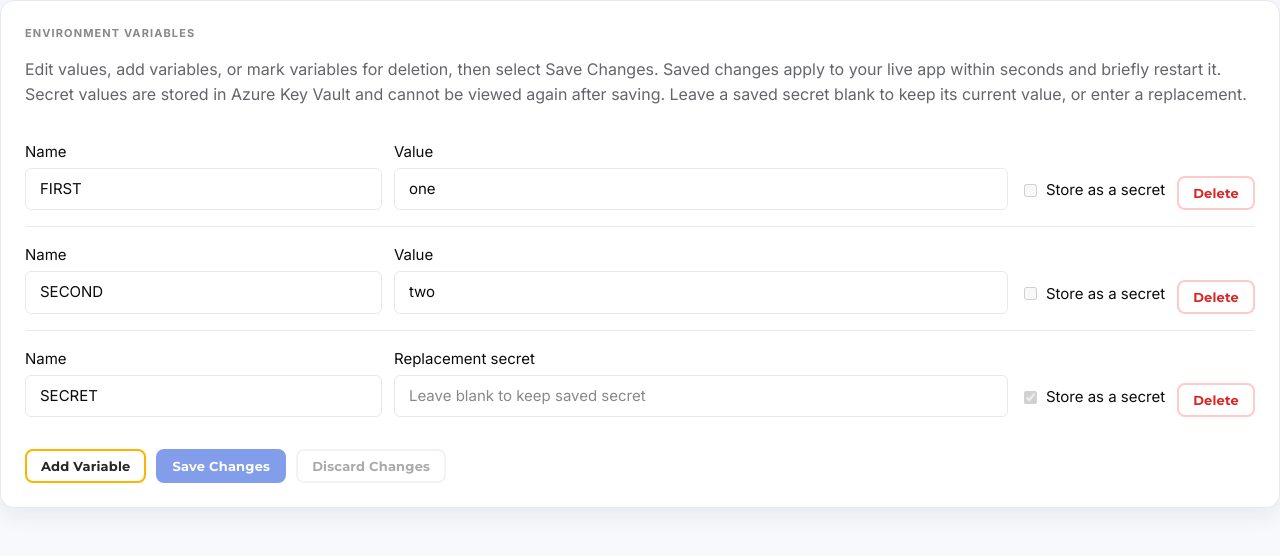
replaces a secret without requiring its key and clears the replacement after saving
The image size is (1280, 556).
Type "replacement" into the password field named "Value for SECRET". click: (701, 396)
box: [394,375,1008,417]
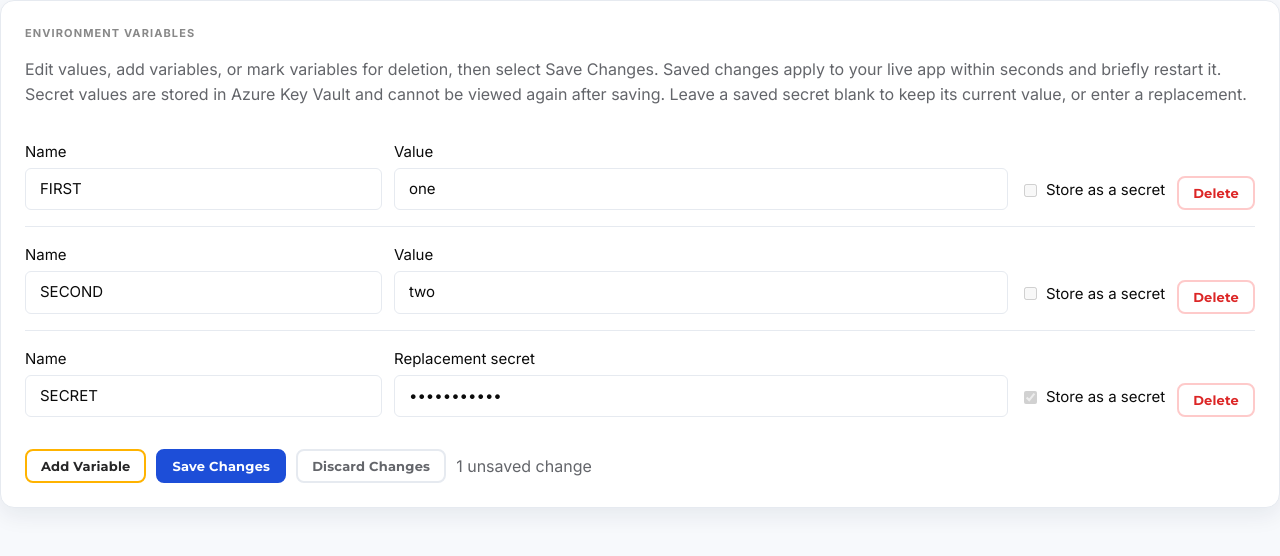
Click the button "Save Changes". click: click(221, 466)
box: [156,449,286,484]
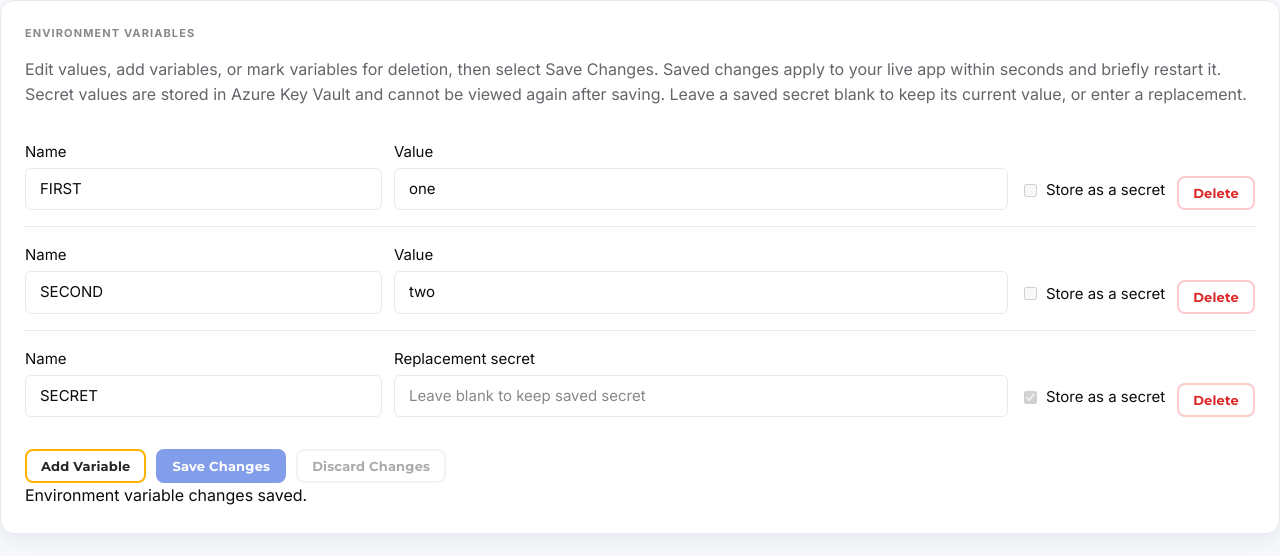
Expected: the text "Environment variable changes saved." is shown, [25,486,307,506]
Expected: the password field named "Value for SECRET" is empty, [394,375,1008,417]
Expected: the button "Save Changes" is disabled, [156,449,286,484]
